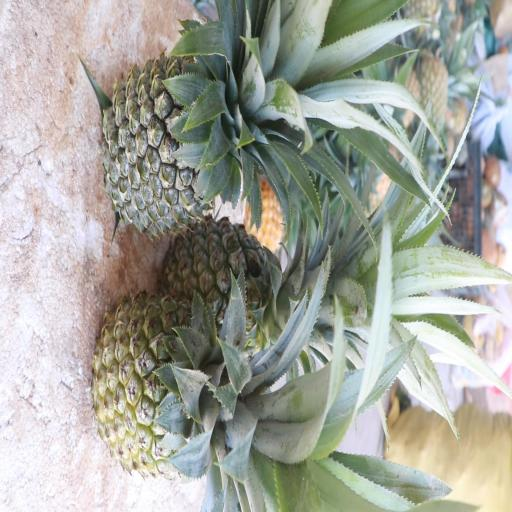------------------------------: (86, 285, 321, 491), (158, 212, 346, 372)
